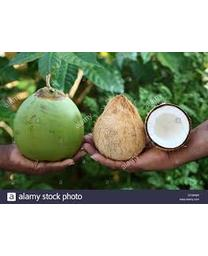coconut: (14, 87, 85, 163), (94, 95, 145, 159), (146, 102, 189, 152)
